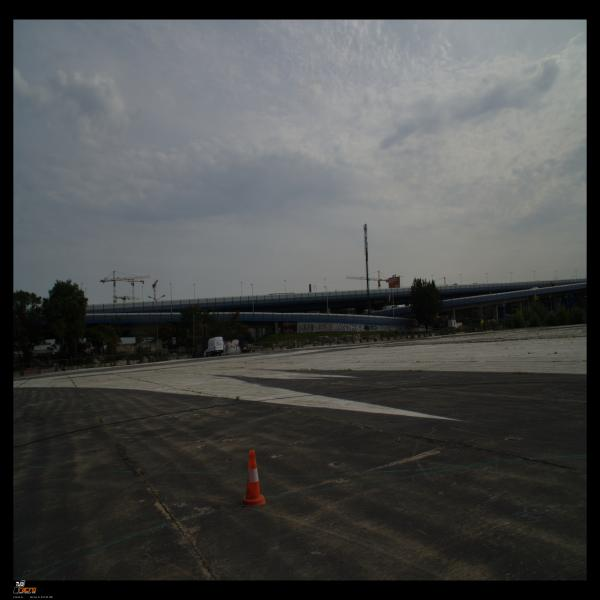orange_cone: (241, 450, 266, 507)
